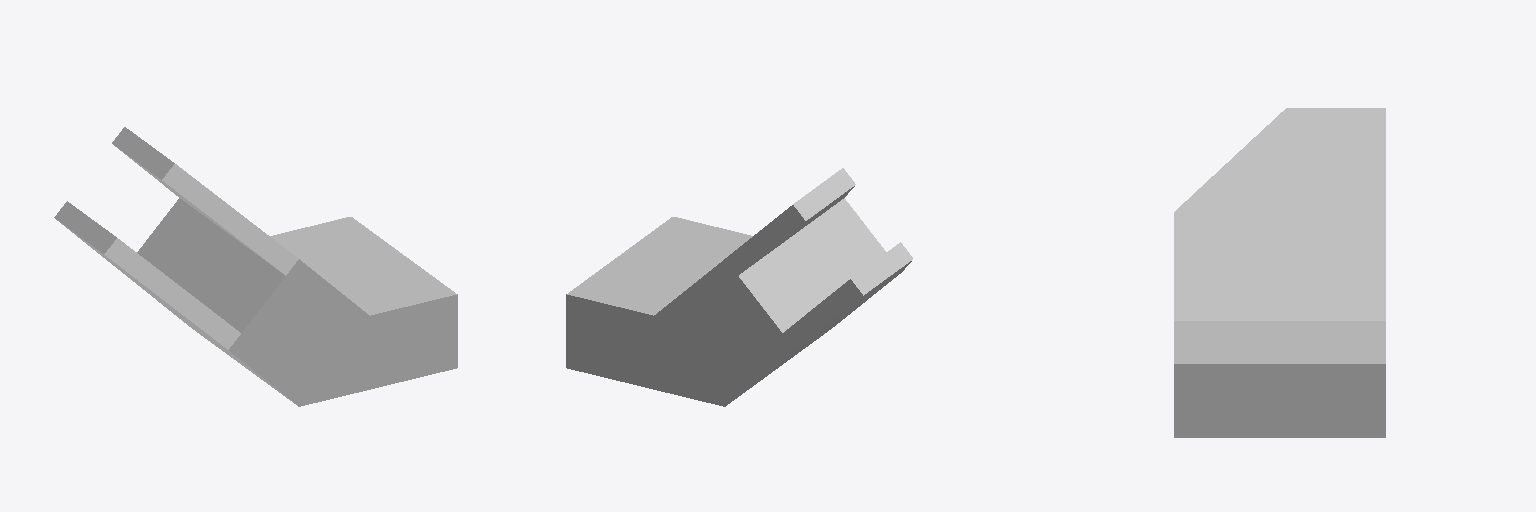
File: Canted_Rear_Iron_Sight.obj
3 views of the same model, side by side, from view 1: azimuth 30°, elevation 25°; view 2: azimuth 150°, elevation 25°; view 3: azimuth 270°, elevation 25° (orthographic).
Parts seen in each view (by area): view 1: Canted_Rear_Iron_Sight_Cube.033; view 2: Canted_Rear_Iron_Sight_Cube.033; view 3: Canted_Rear_Iron_Sight_Cube.033.
Boxes of the visible parts, x1,y1,x2,y2 form: Canted_Rear_Iron_Sight_Cube.033: [54, 127, 457, 406]; Canted_Rear_Iron_Sight_Cube.033: [566, 168, 912, 406]; Canted_Rear_Iron_Sight_Cube.033: [1174, 108, 1385, 437].
Size of the model in its own units: 0.0668 by 0.047 by 0.0414.